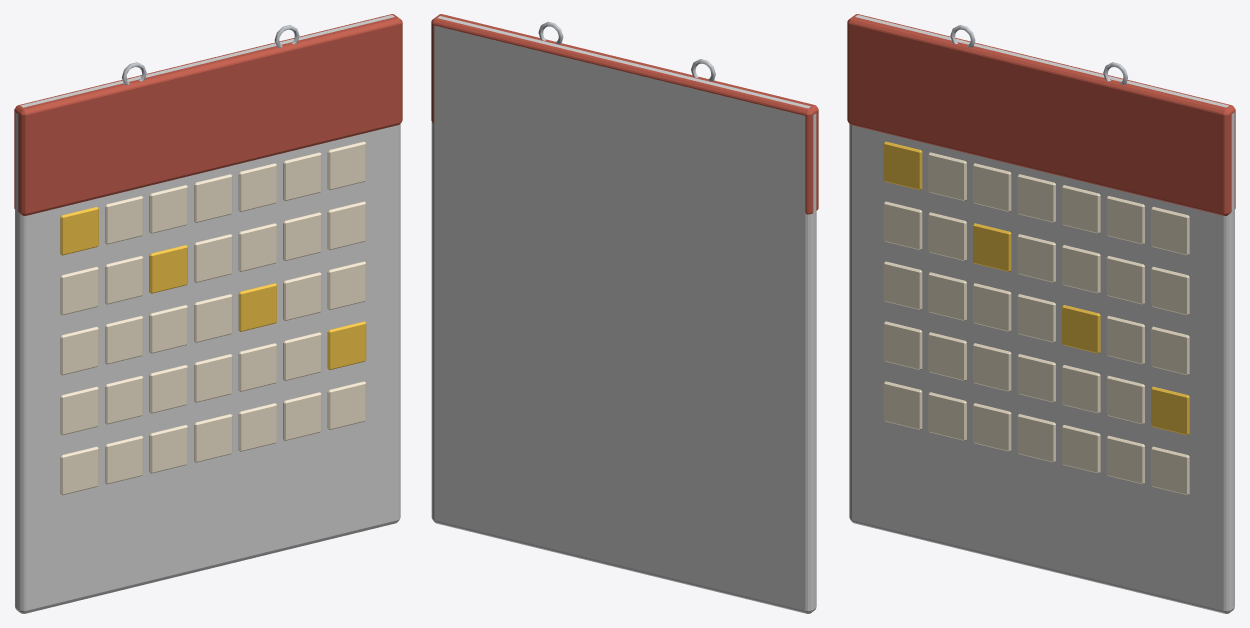
Rendered from calendar.glb.
3 views of the same model, side by side, from view 1: azimuth 30°, elevation 25°; view 2: azimuth 150°, elevation 25°; view 3: azimuth 330°, elevation 25° (orthographic).
Visible parts, largest first — view 1: board, header, day.013, day.020, day.006, day.027, day.034, day.001, day.002, day.003, day.004, day.010 (+25 smaller); view 2: board, header; view 3: board, header, day.007, day.014, day, day.021, day.028, day.002, day.003, day.004, day.005, day.009 (+25 smaller).
Boxes of the visible parts, bbox=[...] form: board: bbox=[15, 15, 400, 613]; header: bbox=[14, 14, 402, 215]; day.013: bbox=[327, 201, 366, 250]; day.020: bbox=[327, 261, 366, 310]; day.006: bbox=[327, 141, 366, 190]; day.027: bbox=[327, 321, 366, 369]; day.034: bbox=[327, 381, 366, 429]; day.001: bbox=[105, 196, 143, 244]; day.002: bbox=[149, 185, 187, 233]; day.003: bbox=[194, 174, 232, 222]; day.004: bbox=[238, 163, 276, 211]; day.010: bbox=[194, 234, 232, 282]; board: bbox=[431, 16, 816, 613]; header: bbox=[431, 14, 818, 214]; board: bbox=[849, 15, 1234, 613]; header: bbox=[847, 14, 1235, 215]; day.007: bbox=[883, 201, 922, 250]; day.014: bbox=[883, 261, 922, 310]; day: bbox=[883, 141, 922, 190]; day.021: bbox=[883, 321, 922, 369]; day.028: bbox=[883, 381, 922, 429]; day.002: bbox=[973, 163, 1011, 211]; day.003: bbox=[1017, 174, 1055, 222]; day.004: bbox=[1062, 185, 1100, 233]; day.005: bbox=[1106, 196, 1144, 244]; day.009: bbox=[973, 223, 1011, 271].
Size of the model in its own units: 0.3 by 0.3939 by 0.015.
